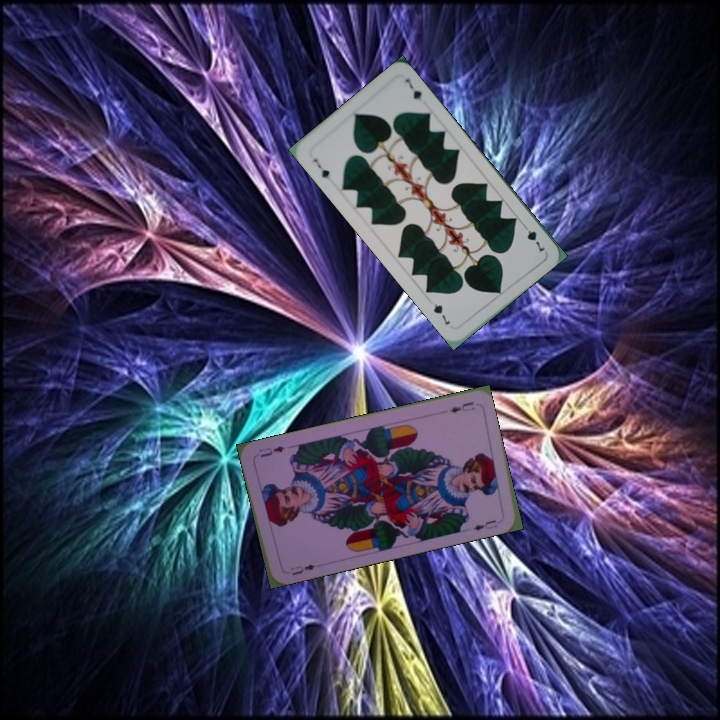EU: (287, 560, 318, 578), (446, 398, 477, 415)
G7: (518, 219, 547, 254), (309, 154, 334, 185)
